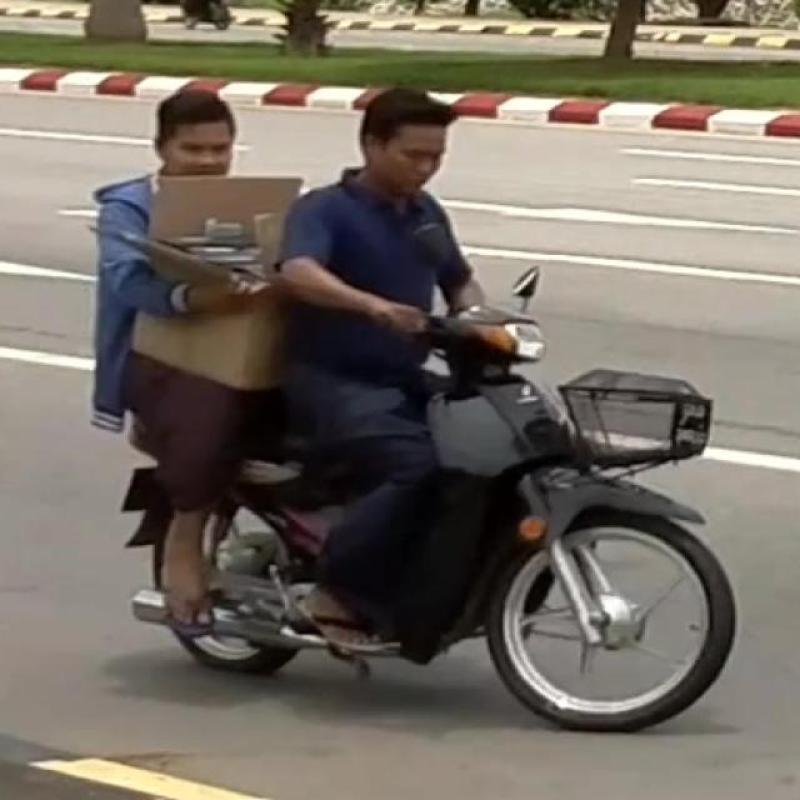nohelmet: (298, 59, 473, 203), (131, 108, 295, 212)
